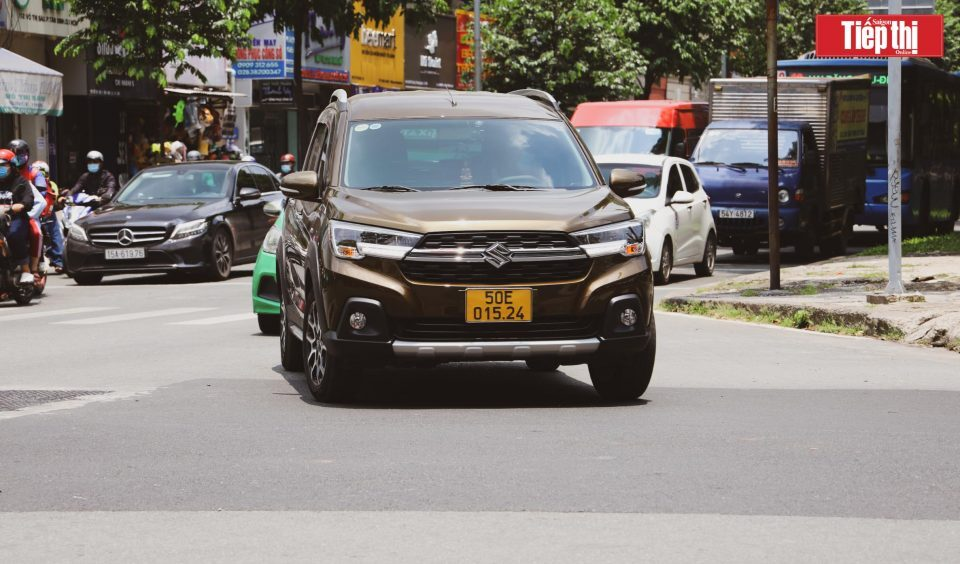number_plate: (464, 287, 534, 322), (104, 245, 147, 259), (718, 208, 756, 219)
